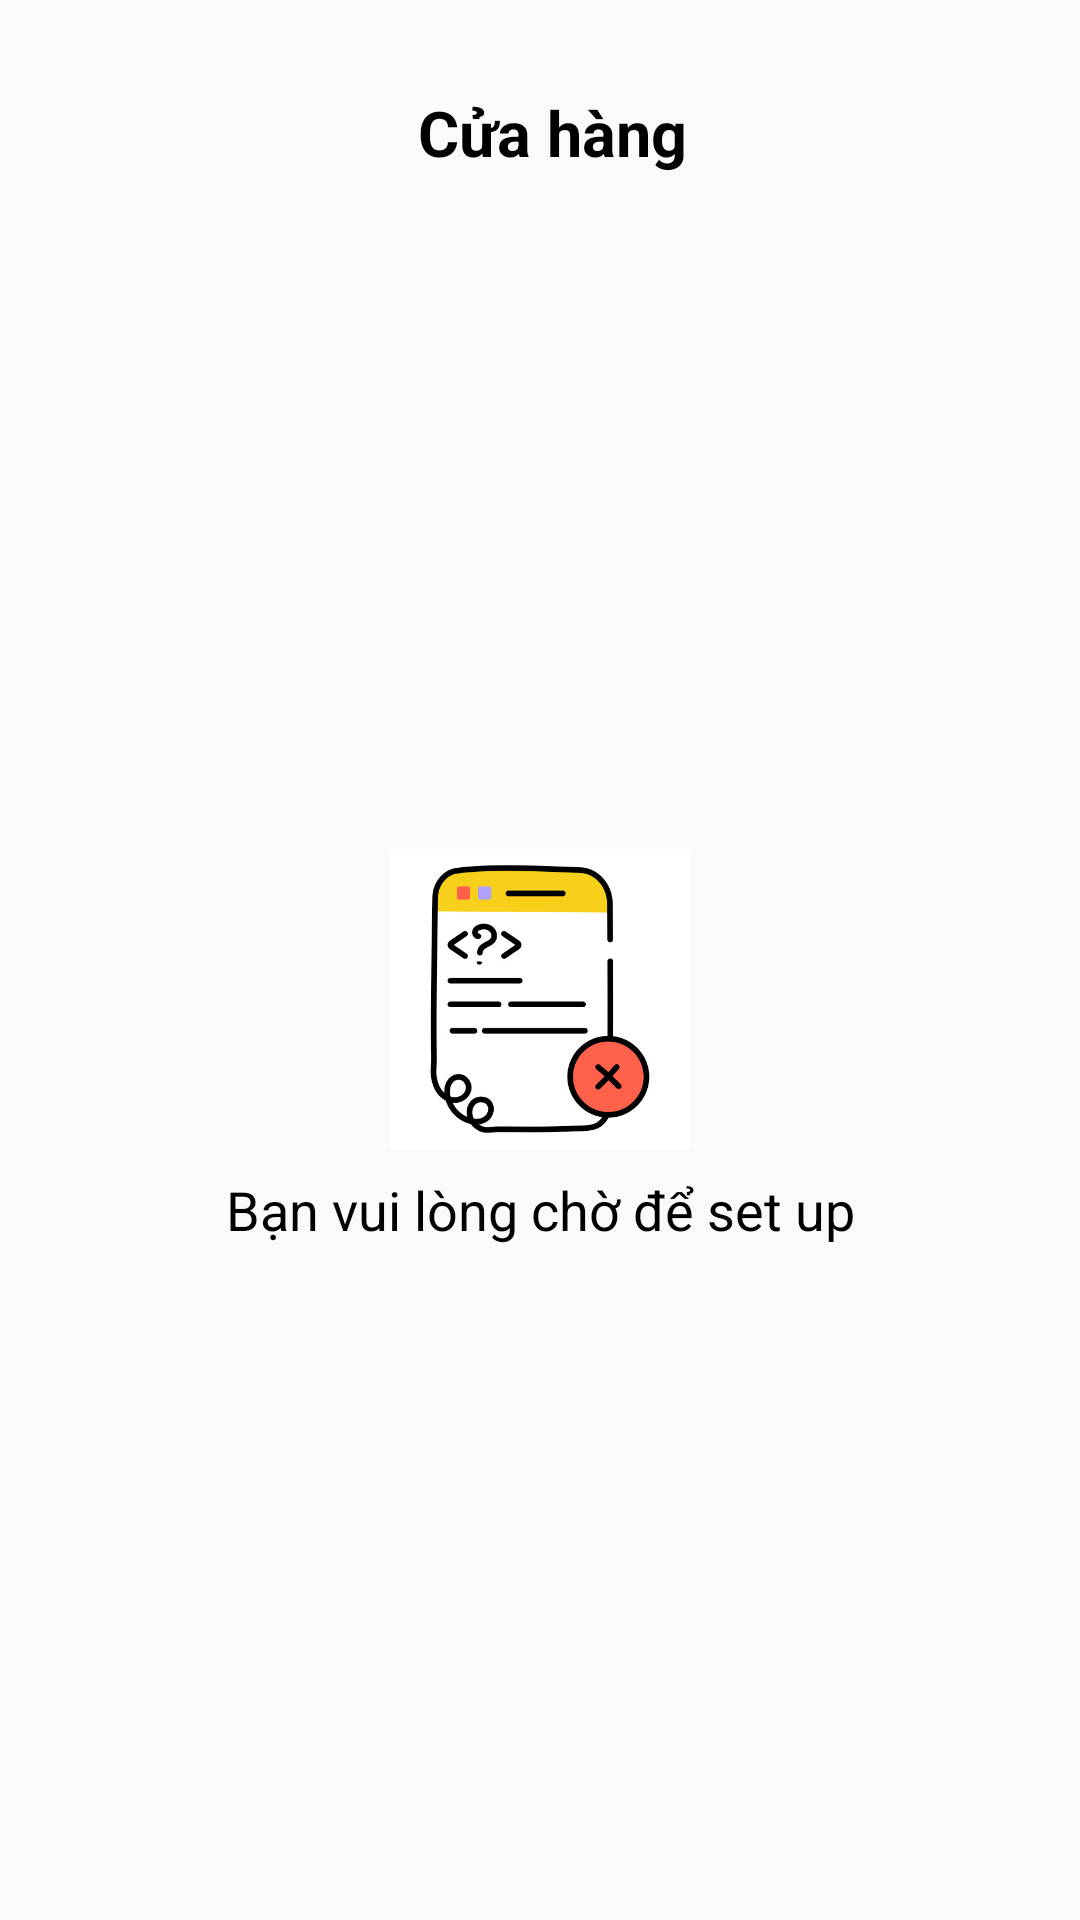

Screen size 1080 × 1920. Icon name, then its box in pixels as (x1, y1, x2, y2):
not data: (430, 865, 650, 1133)
